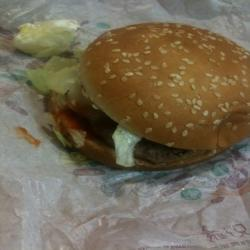burger: (53, 17, 250, 188)
salad: (16, 18, 86, 102)
